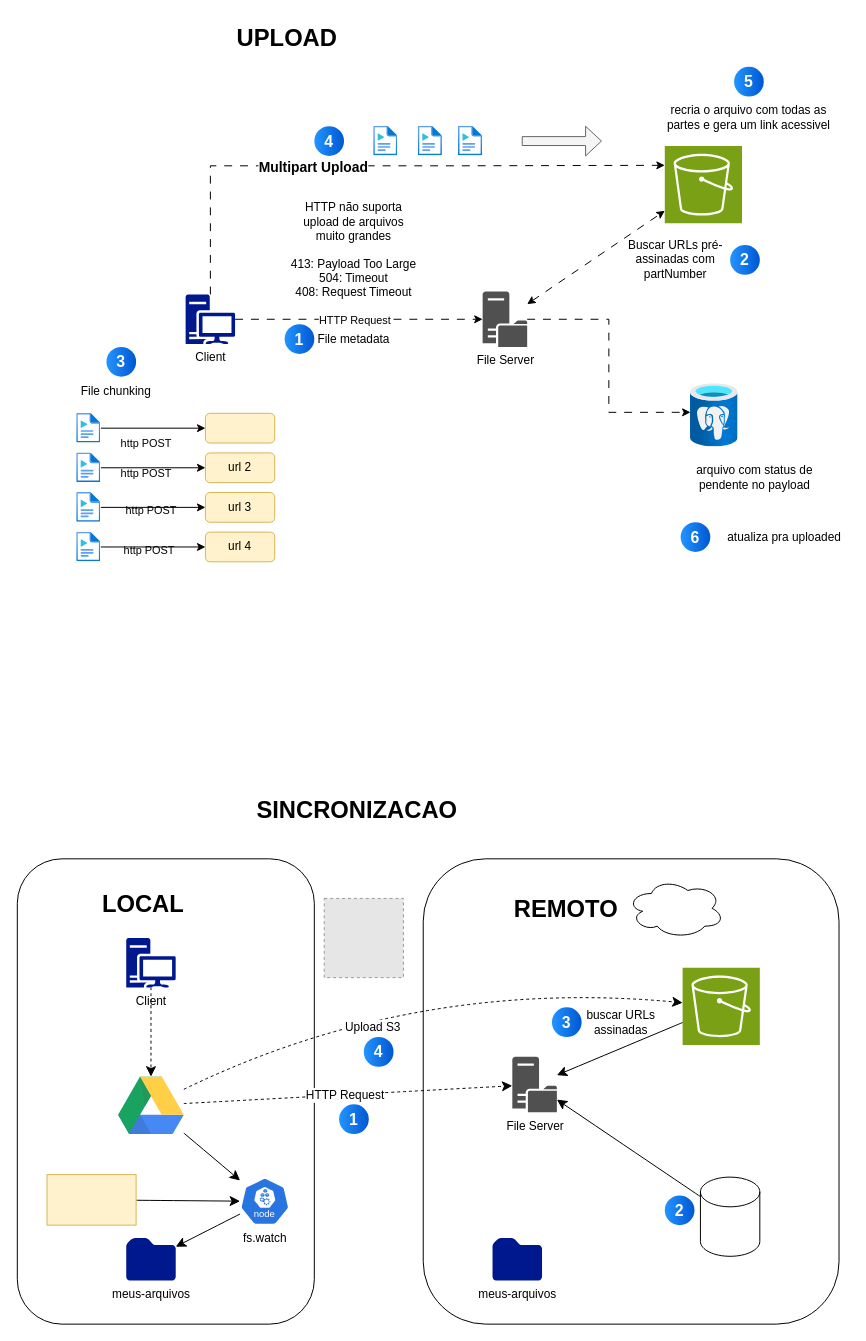
The diagram is 866 pixels wide and 1341 high, and some of its shapes have lost their labels. Grey dashed boxes stand in for pictures. The shapes that lost their labels are listed below. From the top down, each one's centre as x and y in pixels, then its label:
the point at 239,427: url 1
the point at 721,1006: Amazon s3
the point at 150,1105: Google Drive (agente)
the point at 91,1199: APIs que rodam no SO e veem pastas
the point at 729,1216: Database
